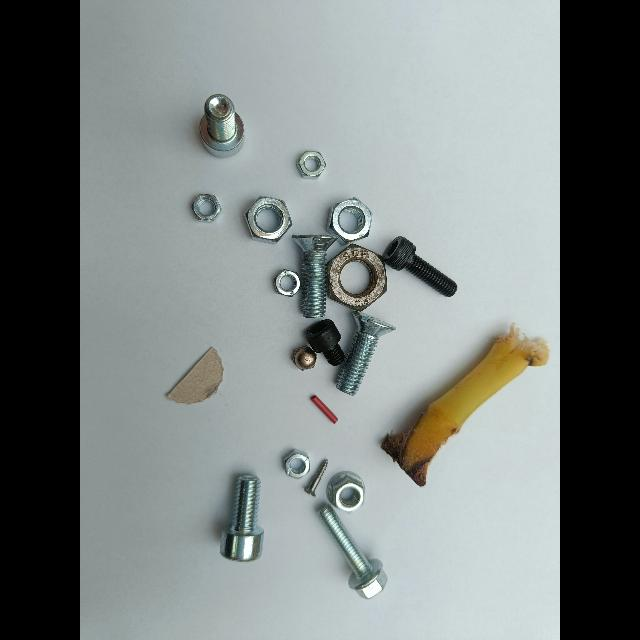bolt: (317, 503, 387, 599), (336, 311, 396, 395), (383, 236, 457, 297), (220, 474, 264, 561), (292, 235, 338, 318), (200, 94, 244, 157), (305, 319, 344, 366), (304, 459, 328, 496)
nuts: (326, 244, 387, 311), (244, 196, 292, 242), (327, 198, 372, 244), (326, 471, 365, 512), (297, 150, 326, 179), (192, 194, 221, 222), (283, 449, 310, 479), (274, 270, 300, 297), (291, 345, 317, 370)
